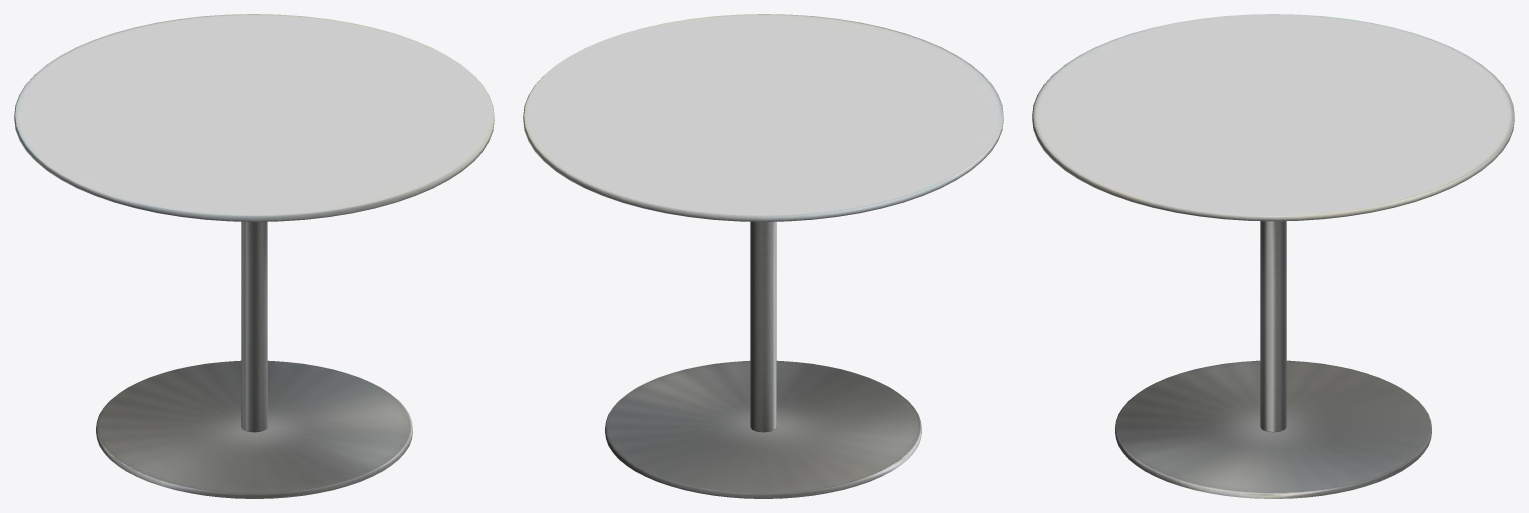
The picture shows the model from 3 angles, left to right: view 1: azimuth 30°, elevation 25°; view 2: azimuth 150°, elevation 25°; view 3: azimuth 270°, elevation 25°; orthographic projection.
Parts seen in each view (by area): view 1: Piano_100; view 2: Piano_100; view 3: Piano_100.
Boxes of the visible parts, box(x1,y1,x2,y2) form: Piano_100: box(14, 14, 494, 498); Piano_100: box(523, 14, 1003, 498); Piano_100: box(1032, 14, 1514, 498).
Size of the model in its own units: 1.63 by 1.18 by 1.63.
Materials: 1 (1 with a texture image).
